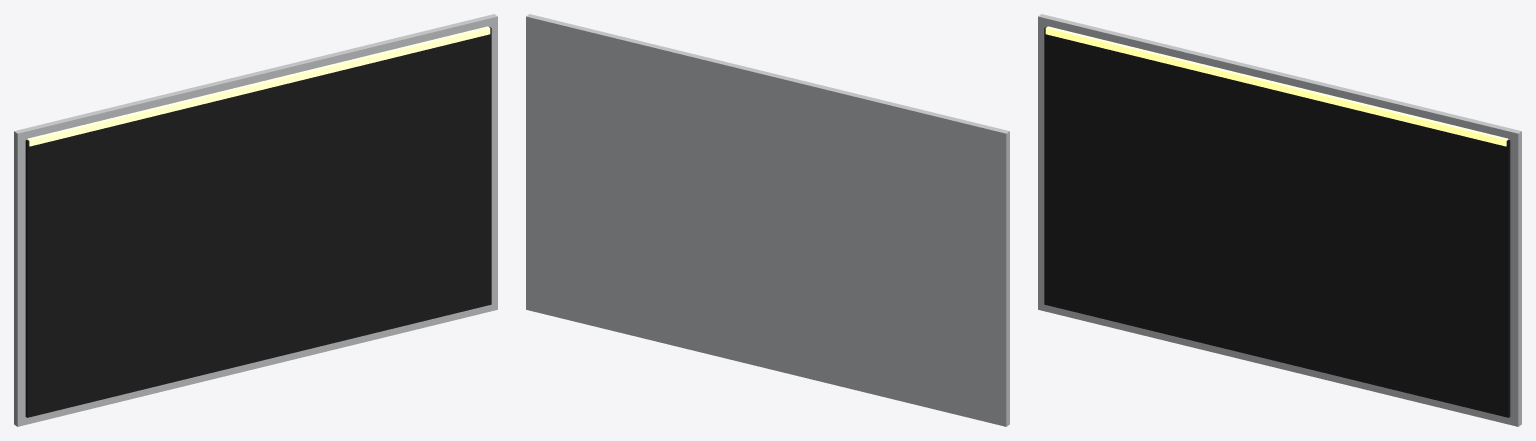
File: BTH-0054.glb
The picture shows the model from 3 angles, left to right: view 1: azimuth 30°, elevation 25°; view 2: azimuth 150°, elevation 25°; view 3: azimuth 330°, elevation 25°; orthographic projection.
Parts seen in each view (by area): view 1: flat-mirror; view 2: flat-mirror; view 3: flat-mirror.
Part boxes in pixels (box(x1,y1,x2,y2)): flat-mirror: box(14, 14, 497, 426); flat-mirror: box(526, 14, 1009, 426); flat-mirror: box(1038, 14, 1521, 426).
Size of what is drawn, in the model's own units: 1.2 by 0.7 by 0.025.
